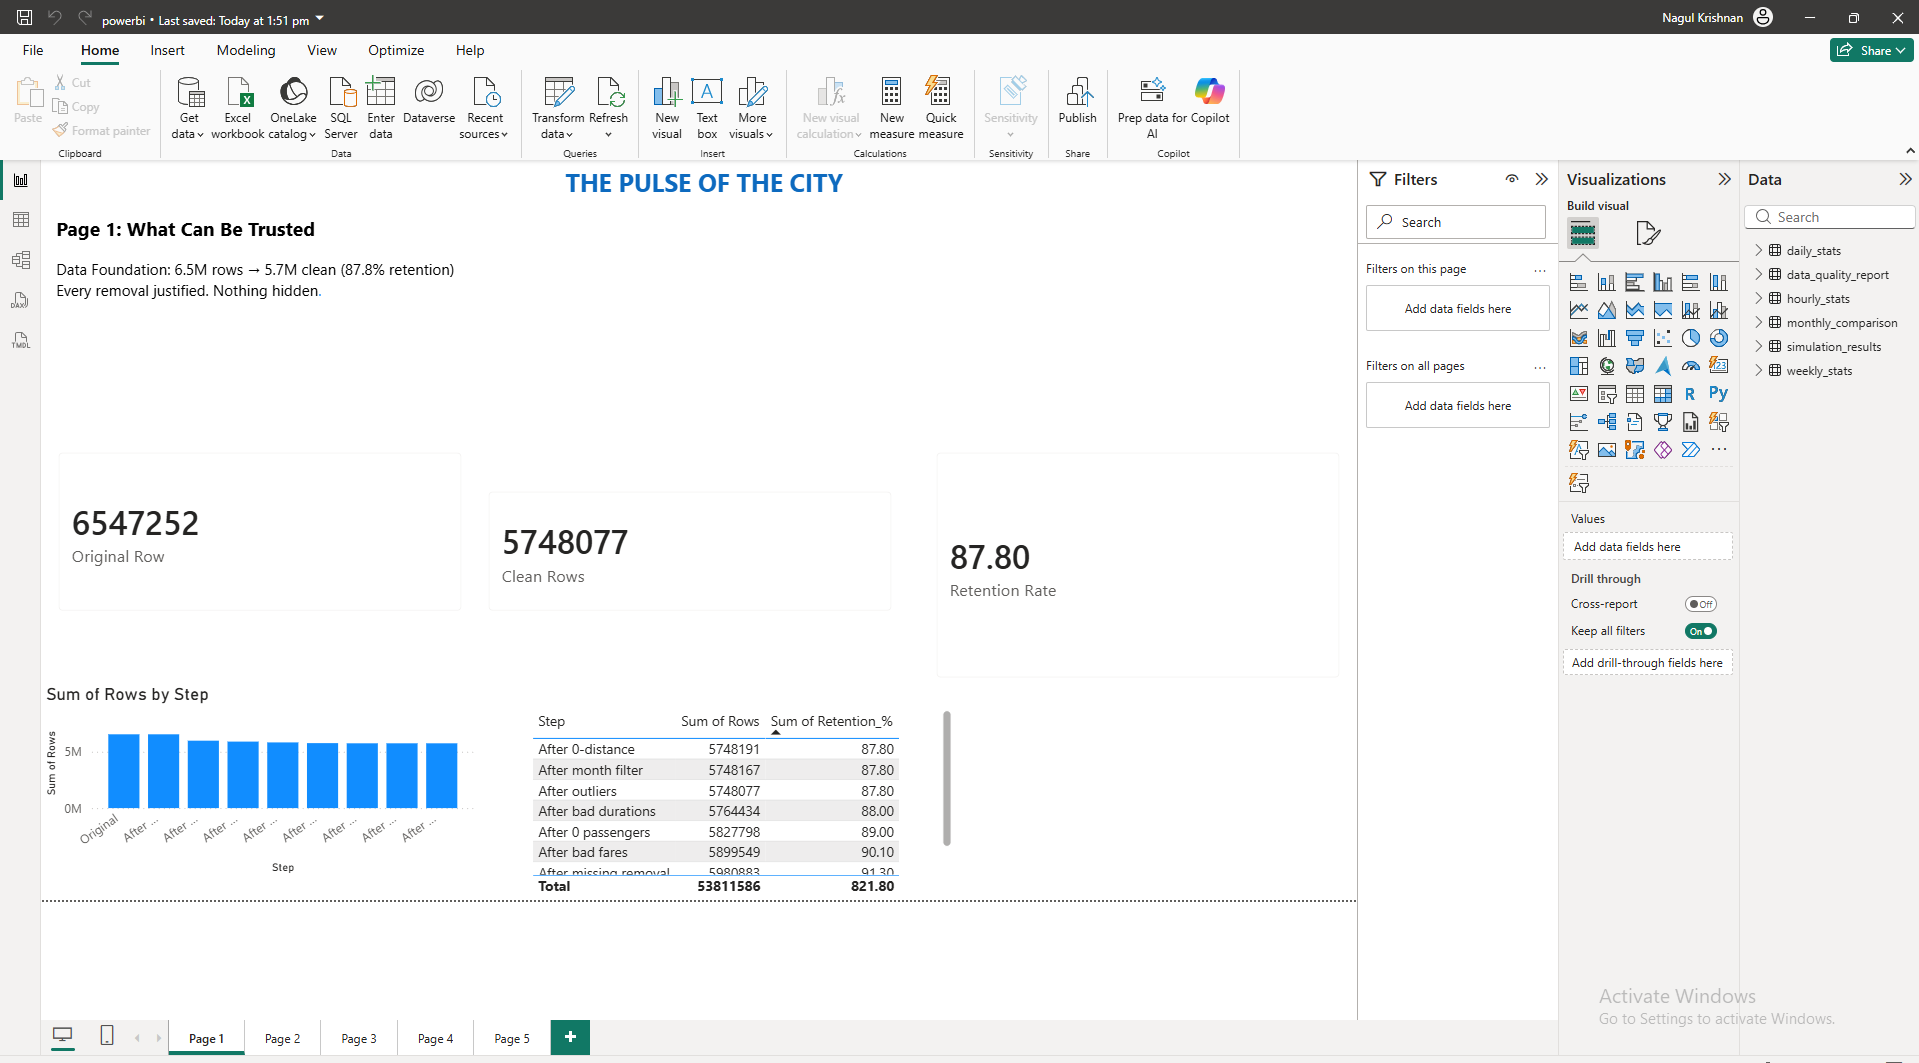

The page's visual inventory and layout, read from the dashboard file:
{"tool":"powerbi","page":{"name":"Page 1","canvas":[1280,720],"ordinal":0},"visuals":[{"type":"textbox","box":[9.7,0,1270.3,149.8],"z":0},{"type":"cardVisual","fields":{"Data":["Sum(data_quality_report.Rows)"]},"box":[0,267.5,426,188.7],"z":1000},{"type":"cardVisual","fields":{"Data":["Sum(data_quality_report.Rows)"]},"box":[418.2,305.4,426,150.8],"z":2000},{"type":"cardVisual","fields":{"Data":["Sum(data_quality_report.Retention_%)"]},"box":[854,267.5,426,253.9],"z":3000},{"type":"clusteredColumnChart","fields":{"Category":["data_quality_report.Step"],"Y":["Sum(data_quality_report.Rows)"]},"box":[0,509.7,426,188.7],"z":4000},{"type":"tableEx","fields":{"Values":["data_quality_report.Step","Sum(data_quality_report.Rows)","Sum(data_quality_report.Retention_%)"]},"box":[472.7,530.1,418.2,189.7],"z":5000}]}

Visuals, with their boxes on the page's 1280x720 design canvas (x1, y1, x2, y2). These are canvas units, not pixel positions in the 1919x1063 screenshot, which may show the page scaled, cropped or inside an application window:
textbox: BBox(10, 0, 1280, 150)
cardVisual - Sum(data_quality_report.Rows): BBox(0, 268, 426, 456)
cardVisual - Sum(data_quality_report.Rows): BBox(418, 305, 844, 456)
cardVisual - Sum(data_quality_report.Retention_%): BBox(854, 268, 1280, 521)
clusteredColumnChart - data_quality_report.Step x Sum(data_quality_report.Rows): BBox(0, 510, 426, 698)
tableEx - data_quality_report.Step x Sum(data_quality_report.Rows): BBox(473, 530, 891, 720)
